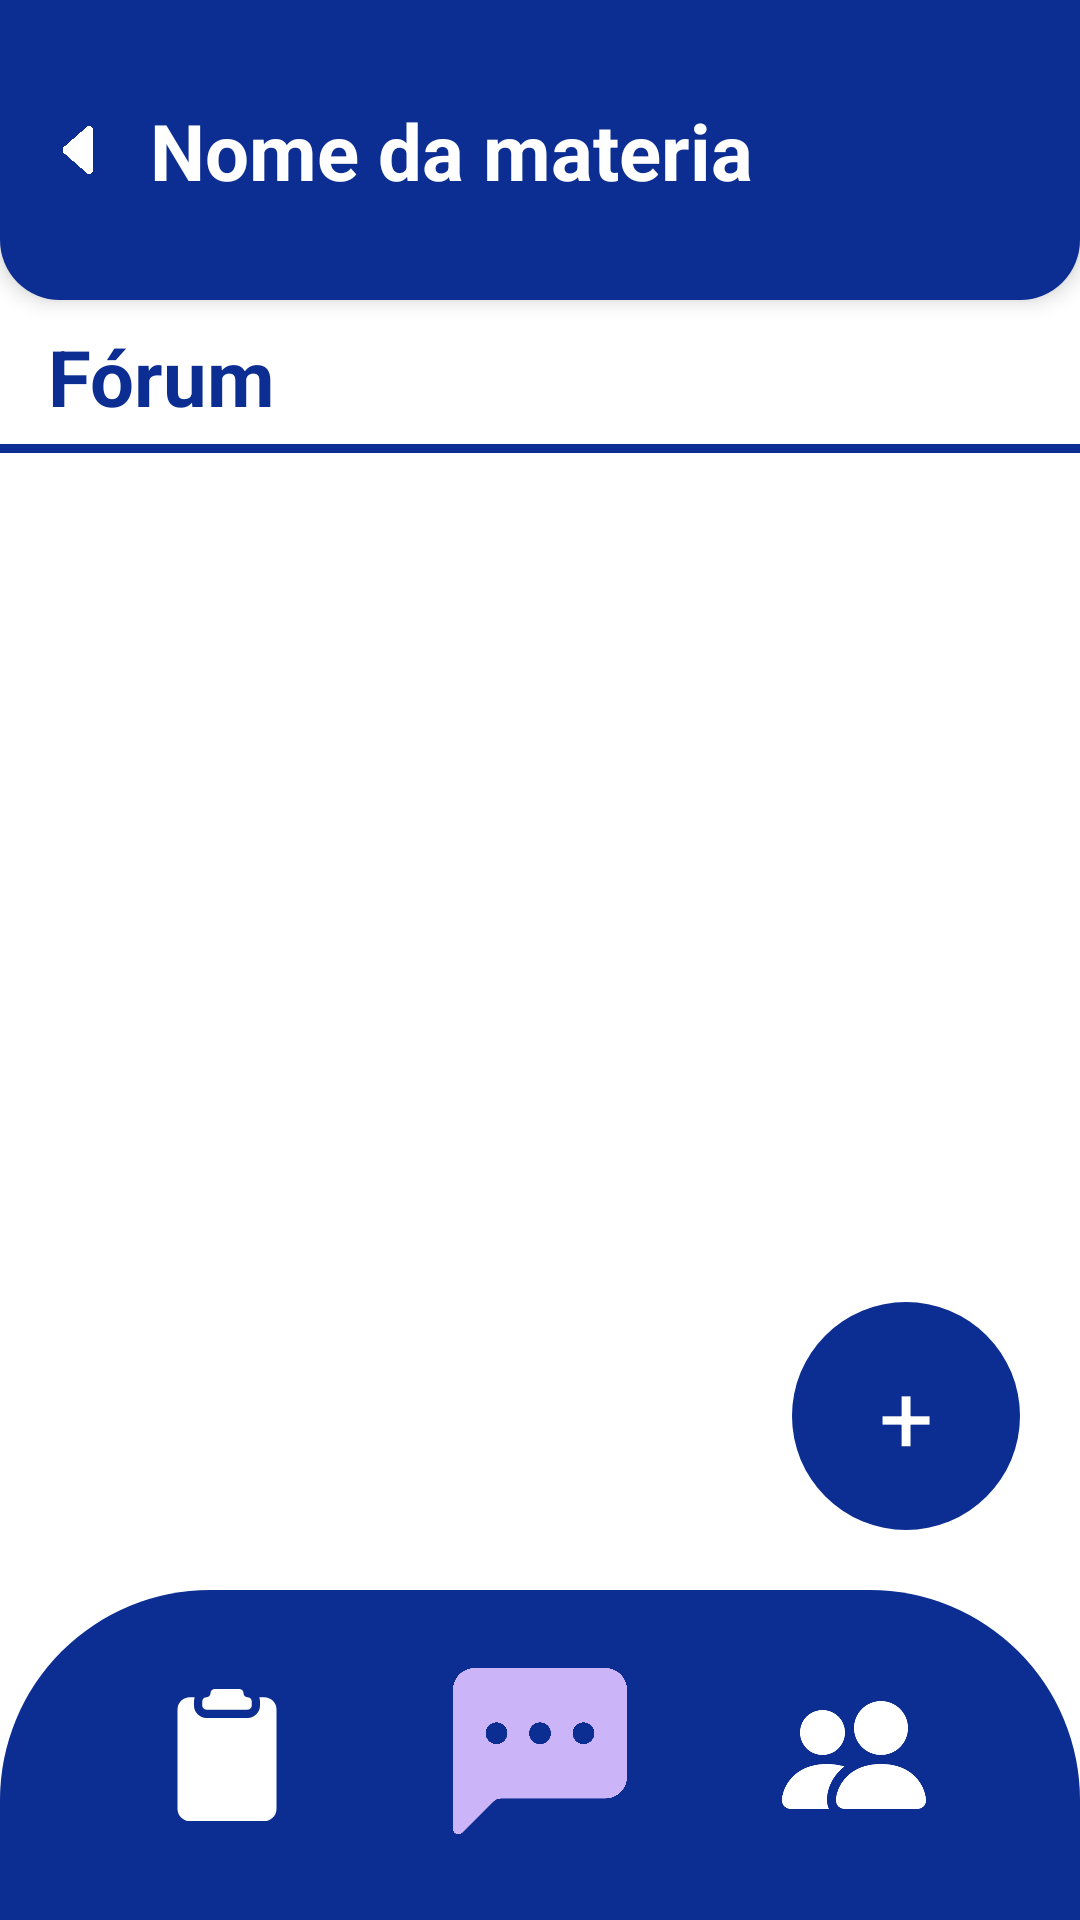

Named icons in this screenshot (1080w x 1920h) and their bounding boxes, Rect(x1, y1, x2, y2):
caret left: Rect(63, 126, 93, 174)
